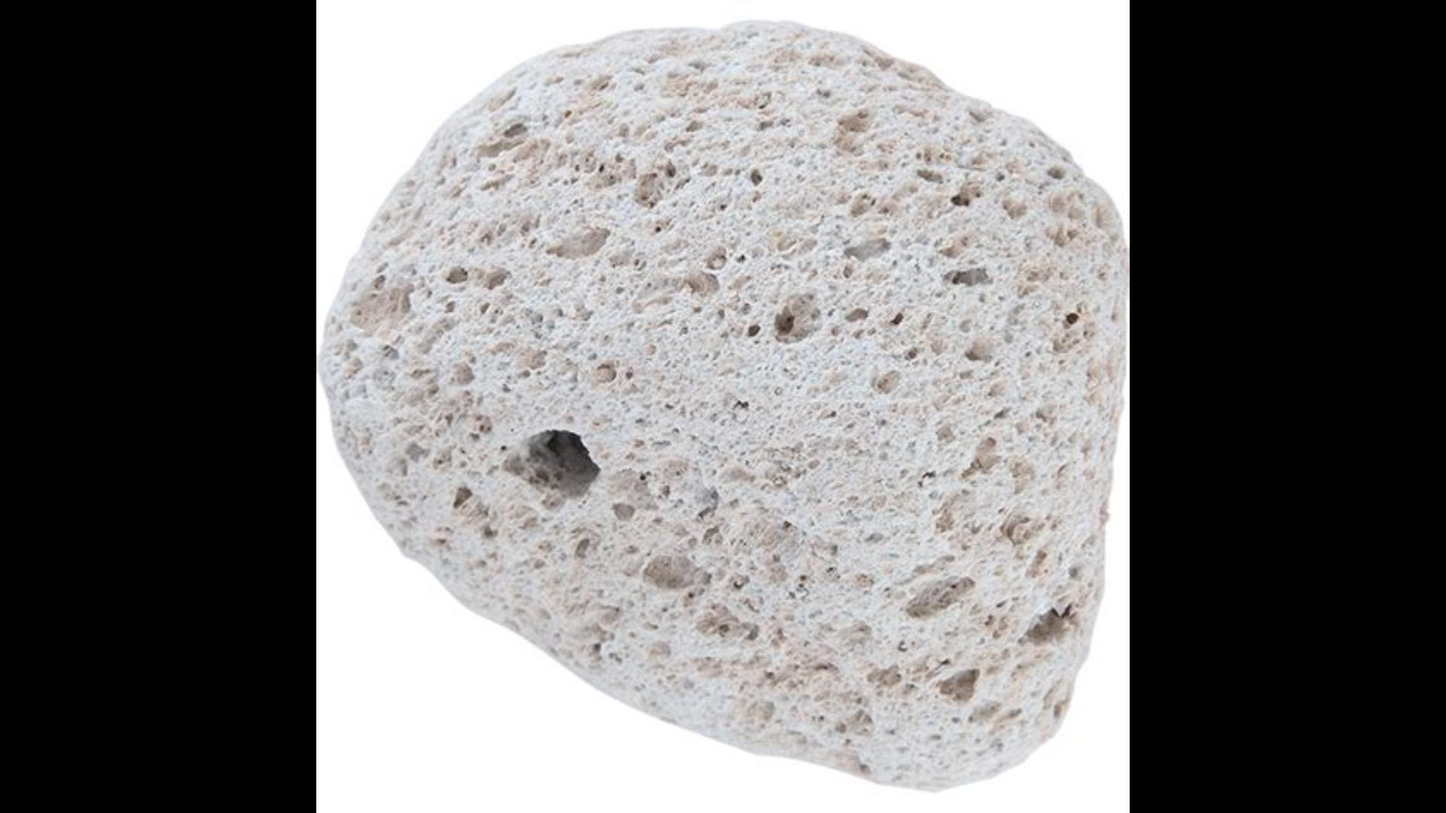rock: (327, 26, 1123, 782)
